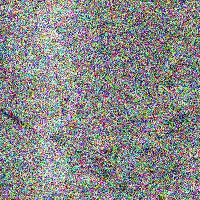rolled-in_scale: (49, 88, 138, 194), (159, 64, 193, 174), (95, 0, 136, 44)
